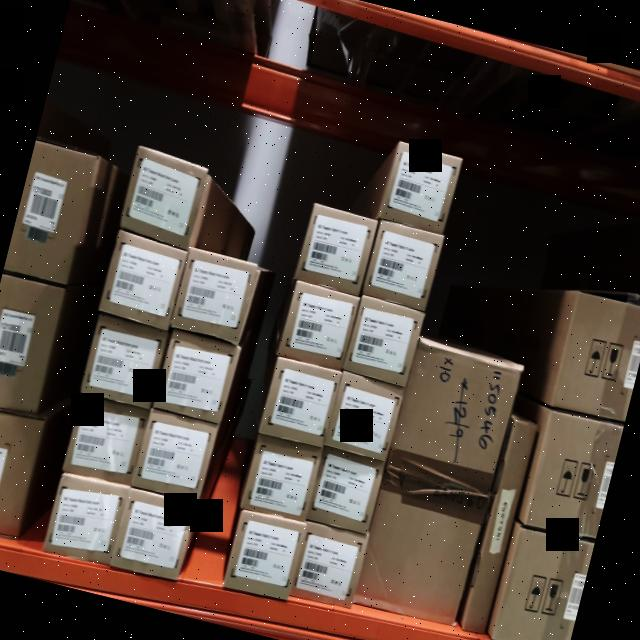box: (354, 340, 518, 623), (462, 421, 536, 633), (118, 148, 208, 247), (80, 315, 168, 409), (99, 234, 187, 326), (132, 410, 217, 502), (154, 329, 238, 422), (172, 253, 257, 342), (64, 398, 148, 486), (45, 476, 128, 564), (112, 491, 195, 578), (381, 142, 461, 232), (296, 204, 376, 294), (260, 358, 342, 444), (363, 222, 443, 308), (324, 374, 404, 460), (224, 512, 304, 598), (242, 436, 322, 522), (278, 284, 358, 368), (344, 300, 422, 384), (291, 523, 367, 607), (306, 451, 382, 533)
